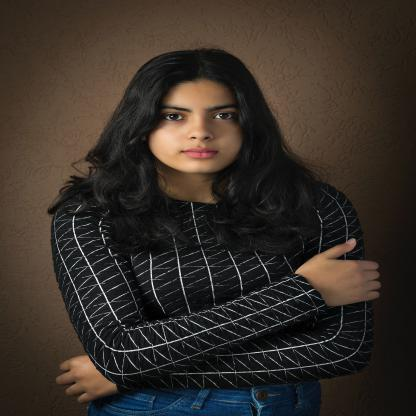Eye: (160, 110, 188, 124), (212, 110, 240, 123)
Nose: (190, 116, 214, 143), (179, 145, 219, 160)
